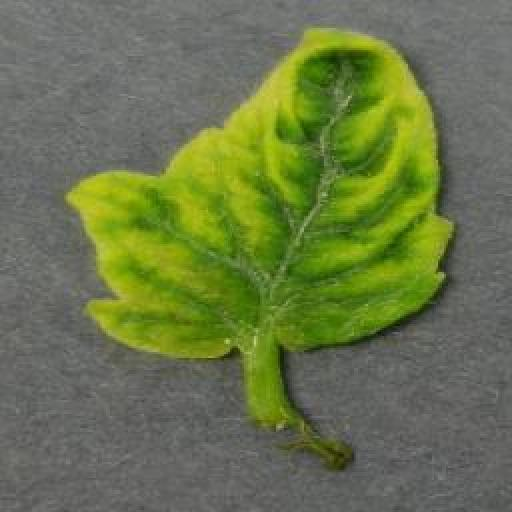Yellow Leaf Curl Virus: (67, 28, 460, 359)
